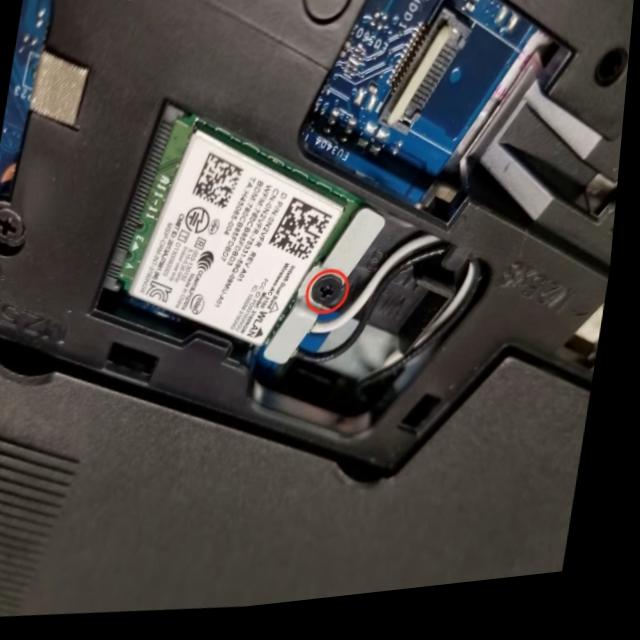datamatrix: (271, 199, 340, 273), (193, 154, 250, 218)
